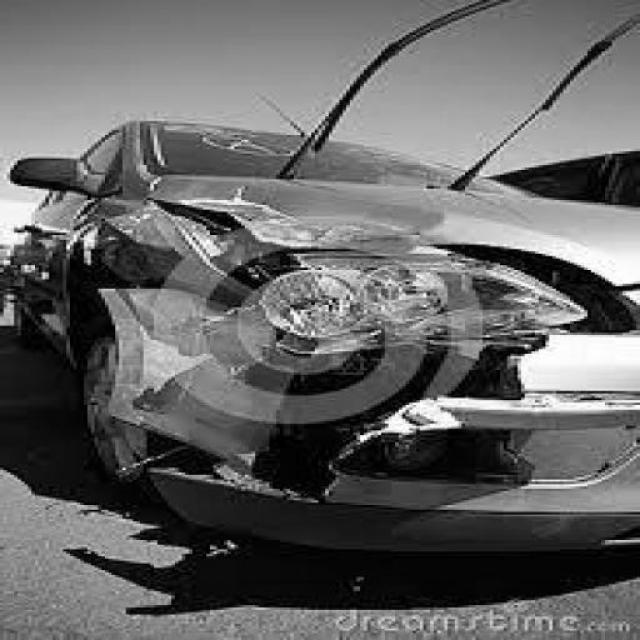crush: (65, 183, 640, 556)
